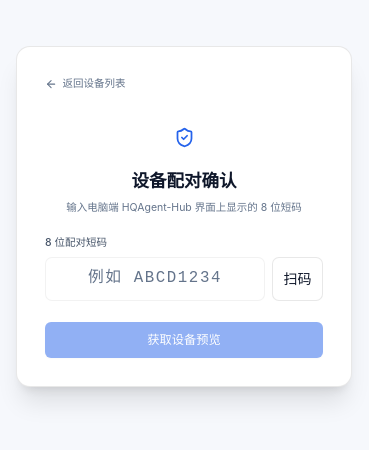
Test: RemotePairingPage › handles REMOTE_PAIRING_EXPIRED error correctly
Type "EXPIRED0" into the field labelled "8 位配对短码".
click(155, 278); type("EXPIRED0")  # box [45, 256, 265, 300]
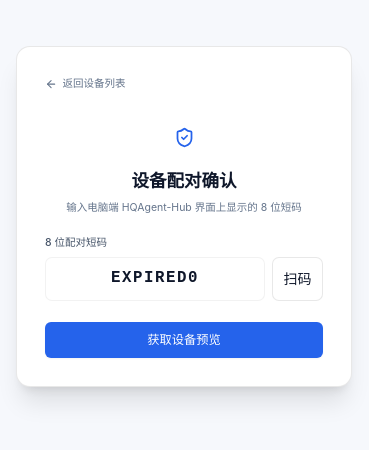
Click the button with test id "preview-btn".
click(184, 340)  # box [45, 322, 323, 358]
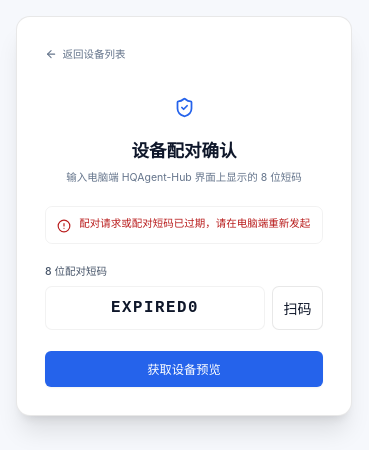
Expected: the message "配对请求或配对短码已过期，请在电脑端重新发起" is shown, [45, 206, 323, 244]
